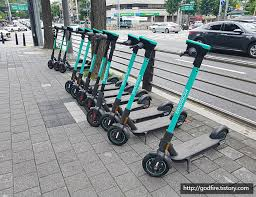kick_board: (143, 40, 229, 176)
kick_body: (176, 137, 215, 158), (140, 119, 172, 131), (132, 110, 159, 117)
kick_handler: (182, 42, 212, 58), (135, 35, 157, 50)
kick_neck: (159, 64, 198, 146)
kick_wheel: (142, 152, 170, 177), (108, 125, 129, 146), (88, 107, 102, 129), (216, 124, 229, 143), (162, 101, 174, 115), (142, 94, 151, 108), (48, 60, 53, 70)
